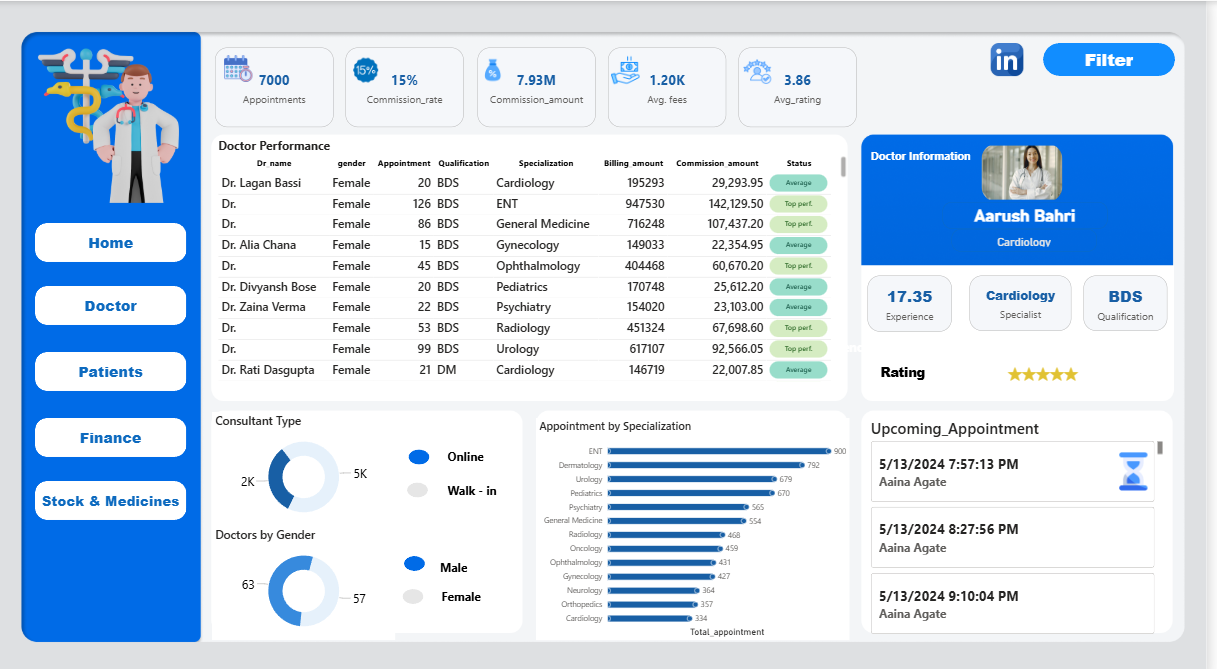

What the dashboard file says about the page in this screenshot:
{"tool":"powerbi","page":{"name":"Doctor","canvas":[1920,1080],"ordinal":1},"visuals":[{"type":"card","fields":{"Values":["Measure_Table.Total_appointment"]},"box":[343.6,73.2,188.5,126.5],"z":0},{"type":"shape","box":[1381.4,226.7,169.4,38.2],"z":1000},{"type":"shape","box":[1243.1,528.7,181.3,40.6],"z":2000},{"type":"shape","box":[1724,78.7,83.8,62.1],"z":3000},{"type":"card","fields":{"Values":["Measure_Table.Dr_name"]},"box":[1500.7,319.7,262.5,42.9],"z":4000},{"type":"shape","box":[1381.4,570.2,112.1,40.6],"z":5000},{"type":"shape","box":[1674.9,528.7,181.3,40.6],"z":6000},{"type":"card","fields":{"Values":["Measure_Table.Specilization_text"]},"box":[1515.1,362.7,231.4,35.8],"z":7000},{"type":"card","fields":{"Values":["Avg(patients.doctors.experience_years)"]},"box":[1381.4,436.4,134,89],"z":8000},{"type":"advancedSlicerVisual","title":"Upcoming_Appointment","fields":{"Values":["appointments.appointment_datetime"]},"box":[1381.4,663.3,474.8,350.7],"z":9000},{"type":"image","box":[1562.8,226.7,128.8,93.1],"z":10000},{"type":"tableEx","title":"Doctor Performance","fields":{"Values":["Measure_Table.Dr_name","patients.gender","Measure_Table.Total_appointment","patients.doctors.qualification","patients.doctors.specialization","Measure_Table.Total_billing_amount","Measure_Table.Commission_amount","Measure_Table.Status 2 Badge"]},"box":[343.6,217.1,1009.2,393.7],"z":11000},{"type":"donutChart","title":"Consultant Type","fields":{"Category":["appointments.consultation_type"],"Y":["Measure_Table.Total_appointment"]},"box":[338.8,653.7,291.1,181.3],"z":12000},{"type":"donutChart","title":"Doctors by Gender","fields":{"Category":["patients.doctors.gender"],"Y":["Measure_Table.Total_doctors"]},"box":[338.8,835.1,291.1,181.3],"z":13000},{"type":"shape","box":[713.4,696.7,100.2,54.9],"z":14000},{"type":"shape","box":[701.5,873.2,100.2,54.9],"z":15000},{"type":"shape","box":[651.7,712.8,33.3,23.9],"z":16000},{"type":"shape","box":[644.6,882.2,33.3,23.9],"z":17000},{"type":"shape","box":[712.7,752.7,100,53.7],"z":18000},{"type":"shape","box":[703.8,918.6,100.2,54.9],"z":19000},{"type":"shape","box":[649,766.5,33.3,23.9],"z":20000},{"type":"shape","box":[641.8,935.9,33.3,23.9],"z":21000},{"type":"barChart","title":"Appointment by Specialization","fields":{"Category":["patients.doctors.specialization"],"Y":["Measure_Table.Total_appointment"]},"box":[854.2,663.3,498.7,353.1],"z":22000},{"type":"card","fields":{"Values":["Min(patients.doctors.specialization)"]},"box":[1544.9,436.7,162,88.3],"z":23000},{"type":"card","fields":{"Values":["Min(patients.doctors.qualification)"]},"box":[1725,436.6,133.6,88.3],"z":24000},{"type":"card","fields":{"Values":["Calender_table.Count of feedback_comment star rating"]},"box":[1496,551.1,329.3,83.5],"z":25000},{"type":"shape","box":[1660.6,66.8,210,52.5],"z":26000},{"type":"card","fields":{"Values":["Measure_Table.Commission_rate"]},"box":[552.1,73.2,188,126.5],"z":27000},{"type":"card","fields":{"Values":["Measure_Table.Commission_amount"]},"box":[760.2,73.2,188,126.5],"z":28000},{"type":"card","fields":{"Values":["Avg(patients.doctors.consultation_fee)"]},"box":[968.2,73.2,188,126.5],"z":29000},{"type":"card","fields":{"Values":["Measure_Table.Avg_rating"]},"box":[1176.3,73.2,188,126.5],"z":30000},{"type":"image","box":[357.9,83.3,45.3,47.7],"z":31000},{"type":"image","box":[560.7,85.7,45.3,47.7],"z":32000},{"type":"image","box":[761.1,85.7,47.7,47.7],"z":33000},{"type":"image","box":[973.5,85.7,45.3,47.7],"z":34000},{"type":"image","box":[1183.4,88.1,45.3,47.7],"z":35000},{"type":"image","box":[1574.7,66.8,57.3,52.5],"z":36000},{"type":"actionButton","box":[1574.7,66.8,52.5,52.5],"z":37000},{"type":"image","box":[45.3,35.8,264.8,305.4],"z":39000},{"type":"shape","box":[57.3,452.5,241,62],"z":40000},{"type":"shape","box":[57.3,557.5,241,62],"z":41000},{"type":"shape","box":[57.3,662.5,241,62],"z":42000},{"type":"shape","box":[57.3,762.7,241,62],"z":43000},{"type":"actionButton","box":[57.3,452.5,241,62],"z":44000},{"type":"actionButton","box":[57.3,557.5,241,62],"z":45000},{"type":"actionButton","box":[57.3,662.5,241,62],"z":46000},{"type":"actionButton","box":[57.3,762.7,241,62],"z":47000},{"type":"shape","box":[57.3,353.1,241,62],"z":47001},{"type":"actionButton","box":[57.3,350.7,241,62],"z":47002}]}

Visuals, with their boxes in screenshot pixels (x1, y1, x2, y2), scaled from the page's 1920x1080 canvas onto the 1217x669 screenshot:
card - Measure_Table.Total_appointment: pyautogui.locateOnScreen(218, 45, 337, 124)
shape: pyautogui.locateOnScreen(876, 140, 983, 164)
shape: pyautogui.locateOnScreen(788, 328, 903, 353)
shape: pyautogui.locateOnScreen(1093, 49, 1146, 87)
card - Measure_Table.Dr_name: pyautogui.locateOnScreen(951, 198, 1118, 225)
shape: pyautogui.locateOnScreen(876, 353, 947, 378)
shape: pyautogui.locateOnScreen(1062, 328, 1177, 353)
card - Measure_Table.Specilization_text: pyautogui.locateOnScreen(960, 225, 1107, 247)
card - Avg(patients.doctors.experience_years): pyautogui.locateOnScreen(876, 270, 961, 325)
"Upcoming_Appointment" advancedSlicerVisual: pyautogui.locateOnScreen(876, 411, 1177, 628)
image: pyautogui.locateOnScreen(991, 140, 1072, 198)
"Doctor Performance" tableEx: pyautogui.locateOnScreen(218, 134, 857, 378)
"Consultant Type" donutChart: pyautogui.locateOnScreen(215, 405, 399, 517)
"Doctors by Gender" donutChart: pyautogui.locateOnScreen(215, 517, 399, 630)
shape: pyautogui.locateOnScreen(452, 432, 516, 466)
shape: pyautogui.locateOnScreen(445, 541, 508, 575)
shape: pyautogui.locateOnScreen(413, 442, 434, 456)
shape: pyautogui.locateOnScreen(409, 546, 430, 561)
shape: pyautogui.locateOnScreen(452, 466, 515, 500)
shape: pyautogui.locateOnScreen(446, 569, 510, 603)
shape: pyautogui.locateOnScreen(411, 475, 432, 490)
shape: pyautogui.locateOnScreen(407, 580, 428, 595)
"Appointment by Specialization" barChart: pyautogui.locateOnScreen(541, 411, 858, 630)
card - Min(patients.doctors.specialization): pyautogui.locateOnScreen(979, 271, 1082, 325)
card - Min(patients.doctors.qualification): pyautogui.locateOnScreen(1093, 270, 1178, 325)
card - Calender_table.Count of feedback_comment star rating: pyautogui.locateOnScreen(948, 341, 1157, 393)
shape: pyautogui.locateOnScreen(1053, 41, 1186, 74)
card - Measure_Table.Commission_rate: pyautogui.locateOnScreen(350, 45, 469, 124)
card - Measure_Table.Commission_amount: pyautogui.locateOnScreen(482, 45, 601, 124)
card - Avg(patients.doctors.consultation_fee): pyautogui.locateOnScreen(614, 45, 733, 124)
card - Measure_Table.Avg_rating: pyautogui.locateOnScreen(746, 45, 865, 124)
image: pyautogui.locateOnScreen(227, 52, 256, 81)
image: pyautogui.locateOnScreen(355, 53, 384, 83)
image: pyautogui.locateOnScreen(482, 53, 513, 83)
image: pyautogui.locateOnScreen(617, 53, 646, 83)
image: pyautogui.locateOnScreen(750, 55, 779, 84)
image: pyautogui.locateOnScreen(998, 41, 1034, 74)
actionButton: pyautogui.locateOnScreen(998, 41, 1031, 74)
image: pyautogui.locateOnScreen(29, 22, 197, 211)
shape: pyautogui.locateOnScreen(36, 280, 189, 319)
shape: pyautogui.locateOnScreen(36, 345, 189, 384)
shape: pyautogui.locateOnScreen(36, 410, 189, 449)
shape: pyautogui.locateOnScreen(36, 472, 189, 511)
actionButton: pyautogui.locateOnScreen(36, 280, 189, 319)
actionButton: pyautogui.locateOnScreen(36, 345, 189, 384)
actionButton: pyautogui.locateOnScreen(36, 410, 189, 449)
actionButton: pyautogui.locateOnScreen(36, 472, 189, 511)
shape: pyautogui.locateOnScreen(36, 219, 189, 257)
actionButton: pyautogui.locateOnScreen(36, 217, 189, 256)
